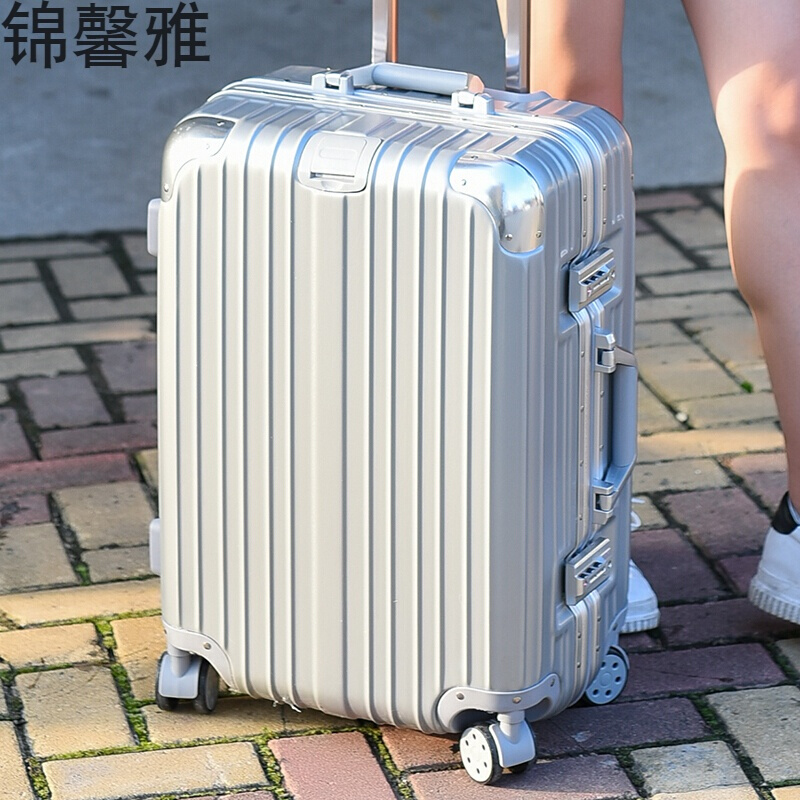box: (156, 65, 636, 738)
handle: (589, 325, 638, 524), (311, 61, 494, 112)
lock: (566, 535, 613, 605), (568, 247, 617, 311)
wheel: (459, 720, 536, 784), (155, 650, 223, 714), (580, 646, 630, 707)
